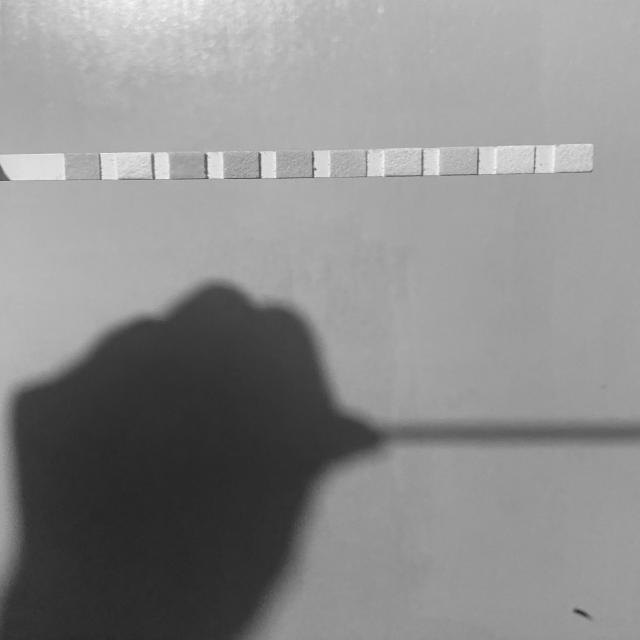Bilirubin: (119, 154, 151, 178)
Blood: (277, 152, 311, 177)
Glucose: (66, 154, 99, 178)
Ketone: (171, 154, 204, 178)
Leukocytes: (556, 145, 592, 171)
Nitrite: (498, 147, 533, 172)
Protein: (386, 150, 421, 175)
SpGravity: (225, 153, 257, 177)
Urobilinogen: (441, 148, 477, 174)
background: (0, 0, 640, 640)
pH: (332, 151, 366, 176)
strip: (0, 145, 591, 181)
